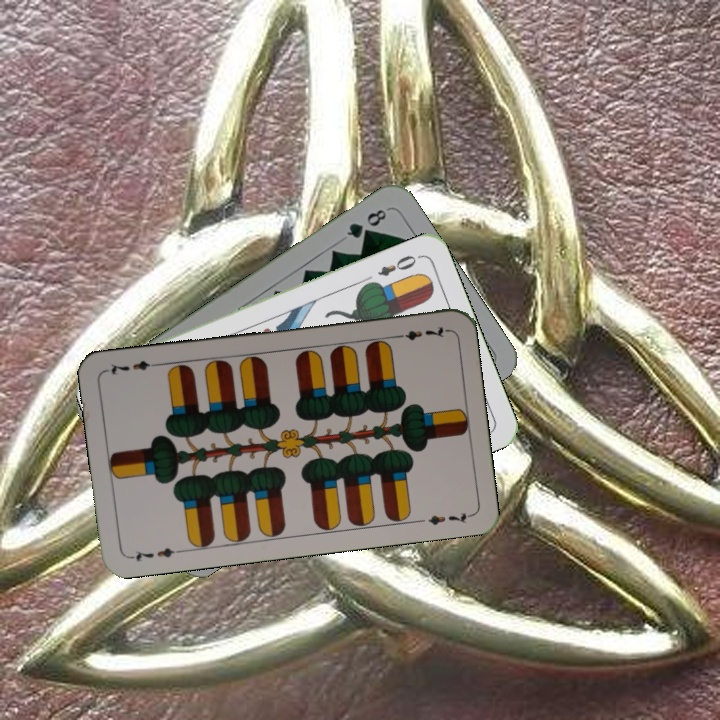E7: (126, 543, 185, 565), (391, 322, 450, 343)
EO: (373, 250, 423, 279)
G8: (342, 204, 391, 241)
